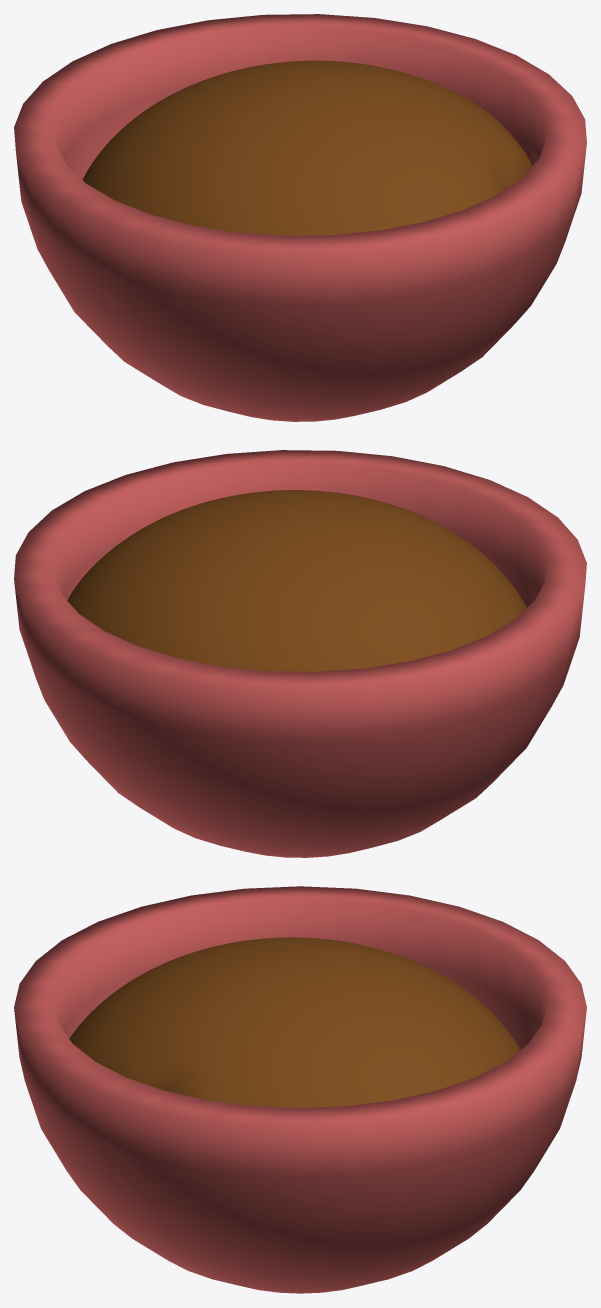
Rendered from MacetaVerano4.fbx.
The picture shows the model from 3 angles, top to bottom: view 1: azimuth 30°, elevation 25°; view 2: azimuth 150°, elevation 25°; view 3: azimuth 270°, elevation 25°; orthographic projection.
Parts seen in each view (by area): view 1: Sphere, Sphere.003; view 2: Sphere, Sphere.003; view 3: Sphere, Sphere.003.
Part boxes in pixels (box(x1,y1,x2,y2)): Sphere: box(14, 14, 586, 421); Sphere.003: box(83, 60, 532, 235); Sphere: box(14, 450, 586, 857); Sphere.003: box(67, 490, 526, 671); Sphere: box(14, 886, 586, 1293); Sphere.003: box(69, 937, 520, 1107).
Bounding box in the file's own units: 49.12 × 28.62 × 49.12.
